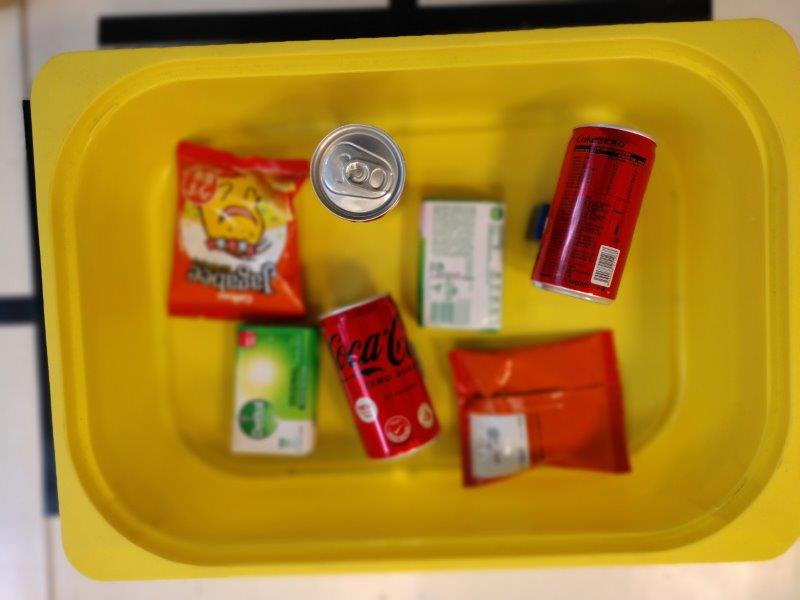Coke: (532, 124, 657, 302), (320, 291, 442, 465), (310, 121, 407, 223)
Dettol: (230, 323, 320, 454), (419, 198, 503, 332)
Jagabee: (447, 332, 634, 491), (166, 137, 311, 322)
